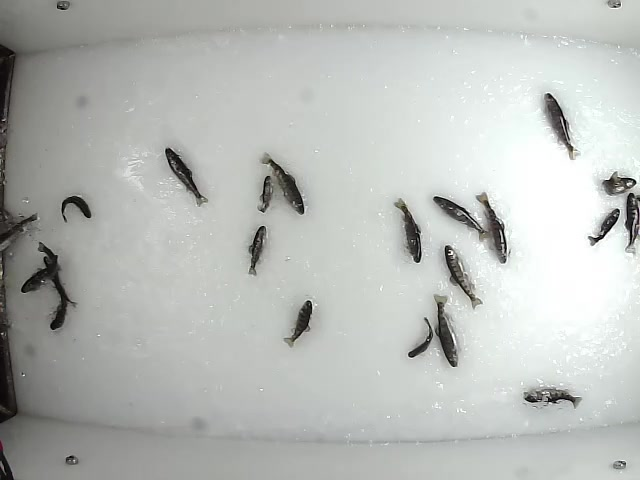fish: (160, 145, 210, 209), (259, 151, 308, 216), (441, 244, 484, 312), (474, 189, 512, 265), (541, 90, 581, 162), (432, 196, 491, 243), (391, 196, 424, 263), (432, 293, 460, 370), (42, 256, 78, 310), (280, 298, 316, 350), (520, 384, 584, 411), (19, 260, 64, 294), (586, 206, 619, 247), (619, 191, 640, 255), (46, 285, 72, 332), (244, 224, 267, 276), (595, 170, 637, 197), (58, 194, 93, 224), (37, 237, 62, 276), (254, 173, 273, 216)
